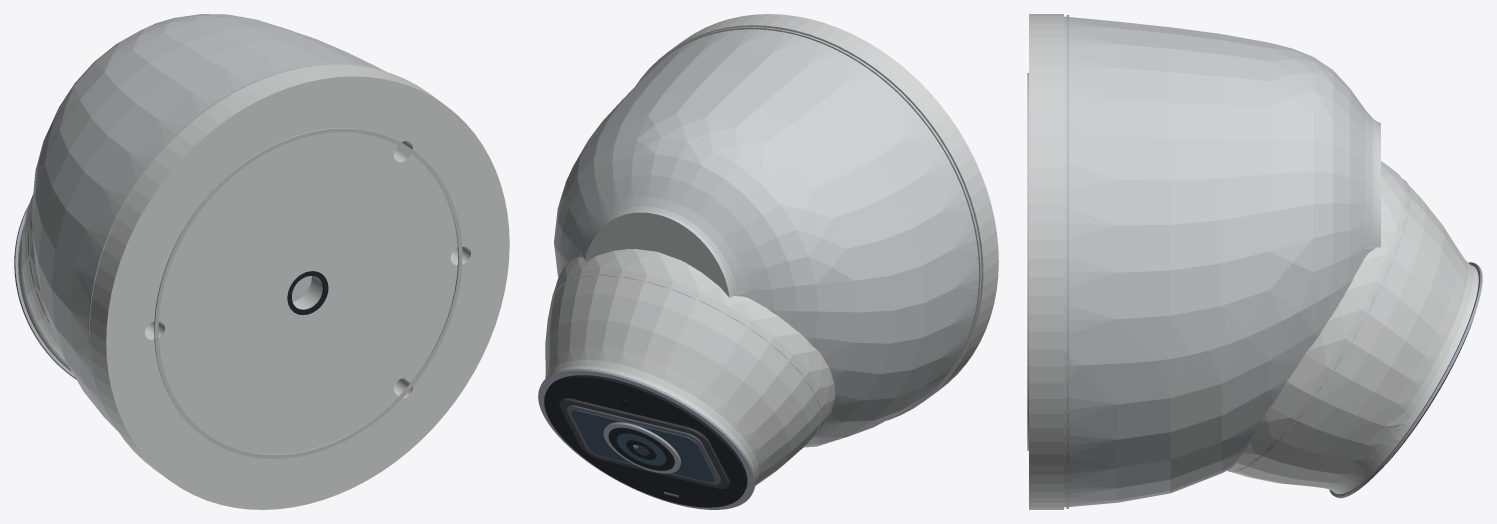
Rendered from camera.glb.
3 views of the same model, side by side, from view 1: azimuth 30°, elevation 25°; view 2: azimuth 150°, elevation 25°; view 3: azimuth 270°, elevation 25° (orthographic). The views are drawn at different scales.
Parts seen in each view (by area): view 1: 01_Base_superior_con_4_ranuras, 03_Carcasa_exterior_turret, 19_Aro_posterior, 04_Cabezal_orientable_blanco, 02_Junta_perimetral, 06_Ribete_perimetral_objetivo, 21_Orificio_cable_oscuro; view 2: 03_Carcasa_exterior_turret, 04_Cabezal_orientable_blanco, 01_Base_superior_con_4_ranuras, 07_Placa_circular_frontal_negra, 10_Cristal_rectangular, 06_Ribete_perimetral_objetivo, 08_Contorno_receptor_optico, 02_Junta_perimetral, 09_Contorno_interno_receptor, 05_Junta_cabezal, 12_Anillo_interior_lente, 11_Anillo_externo_lente (+1 smaller); view 3: 03_Carcasa_exterior_turret, 04_Cabezal_orientable_blanco, 01_Base_superior_con_4_ranuras, 02_Junta_perimetral, 06_Ribete_perimetral_objetivo, 05_Junta_cabezal, 19_Aro_posterior.
Boxes of the visible parts, x1,y1,x2,y2 form: 01_Base_superior_con_4_ranuras: (89,64,509,509); 03_Carcasa_exterior_turret: (32,14,385,431); 19_Aro_posterior: (154,128,462,458); 04_Cabezal_orientable_blanco: (18,194,71,371); 02_Junta_perimetral: (88,63,374,423); 06_Ribete_perimetral_objetivo: (14,205,76,379); 21_Orificio_cable_oscuro: (287,271,328,315); 03_Carcasa_exterior_turret: (554,28,981,447); 04_Cabezal_orientable_blanco: (545,249,835,490); 01_Base_superior_con_4_ranuras: (639,14,998,420); 07_Placa_circular_frontal_negra: (544,375,747,507); 10_Cristal_rectangular: (571,410,714,482); 06_Ribete_perimetral_objetivo: (538,368,755,509); 08_Contorno_receptor_optico: (559,398,729,488); 02_Junta_perimetral: (636,27,981,420); 09_Contorno_interno_receptor: (566,405,720,484); 05_Junta_cabezal: (551,273,822,437); 12_Anillo_interior_lente: (608,427,674,470); 11_Anillo_externo_lente: (603,422,681,473); 03_Carcasa_exterior_turret: (1064,16,1380,507); 04_Cabezal_orientable_blanco: (1228,161,1478,494); 01_Base_superior_con_4_ranuras: (1029,14,1063,509); 02_Junta_perimetral: (1066,15,1068,508); 06_Ribete_perimetral_objetivo: (1329,262,1482,498); 05_Junta_cabezal: (1227,179,1410,472); 19_Aro_posterior: (1027,73,1028,450).
Size of the model in its own units: 110 by 110 by 101.
